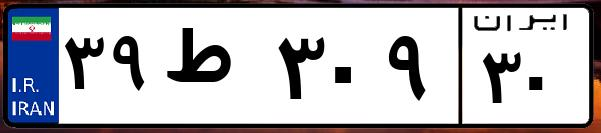0: (330, 28, 385, 110), (525, 38, 570, 115)
3: (270, 28, 330, 110), (57, 26, 110, 100), (475, 38, 525, 113)
9: (385, 28, 445, 110), (110, 28, 158, 98)
ط: (158, 20, 270, 120)
